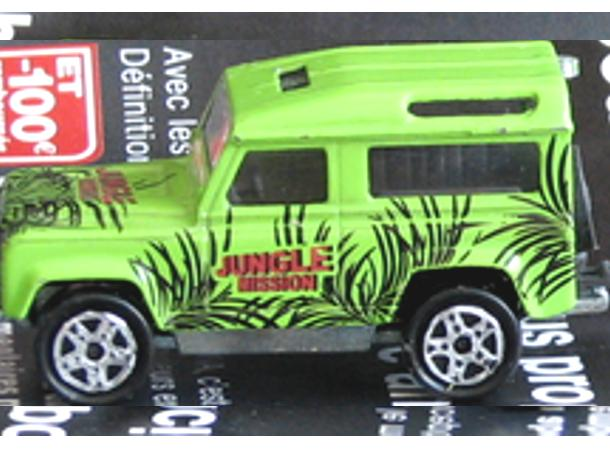toy-car: (0, 40, 610, 406)
